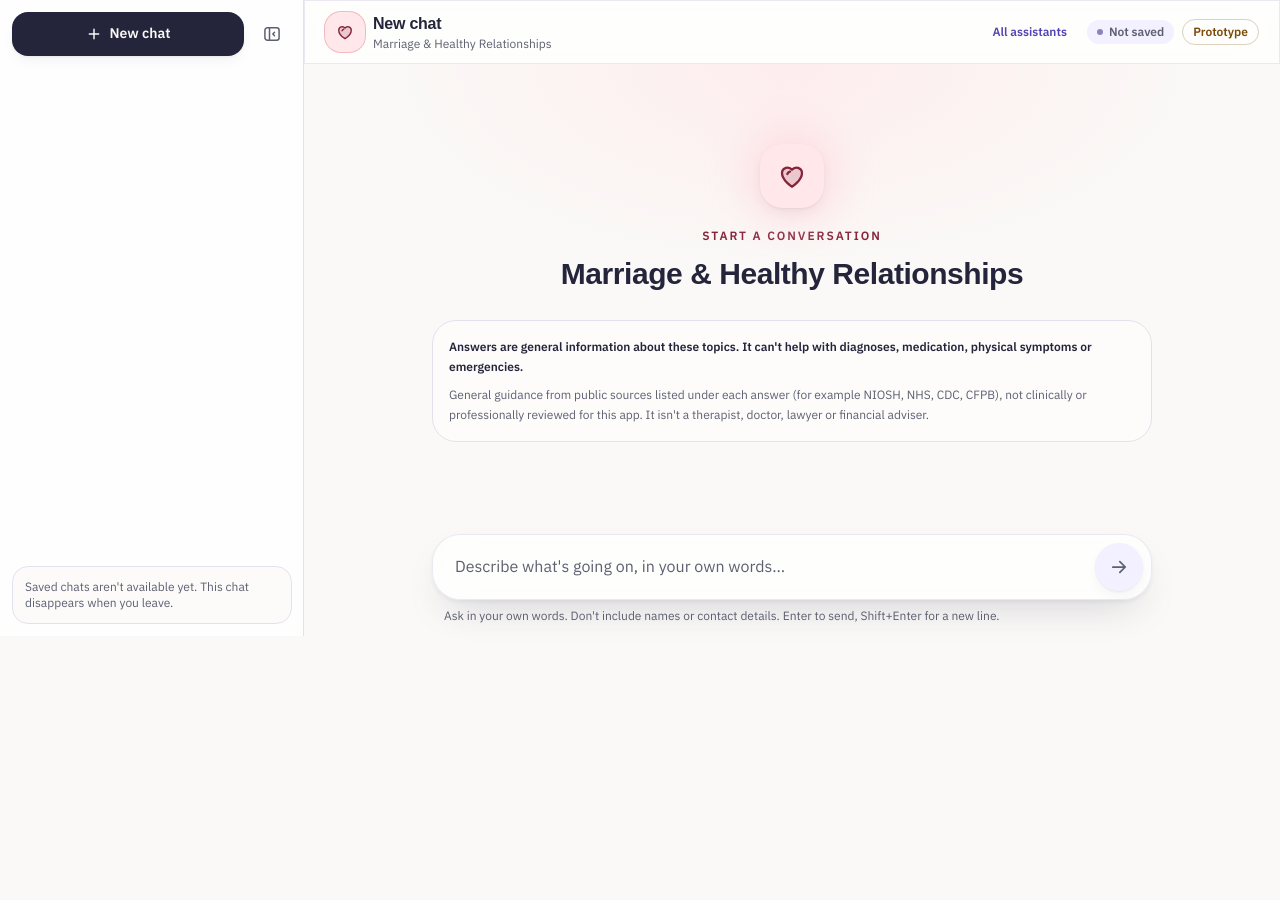
Scenario: workspace handoff › sends the assistant id and suggests a better-suited ready assistant, sharing nothing
Type "My manager keeps changing my deadlines" into the text box named "Ask a general question".
click(764, 567); type("My manager keeps changing my deadlines")  # box [441,543,1087,591]
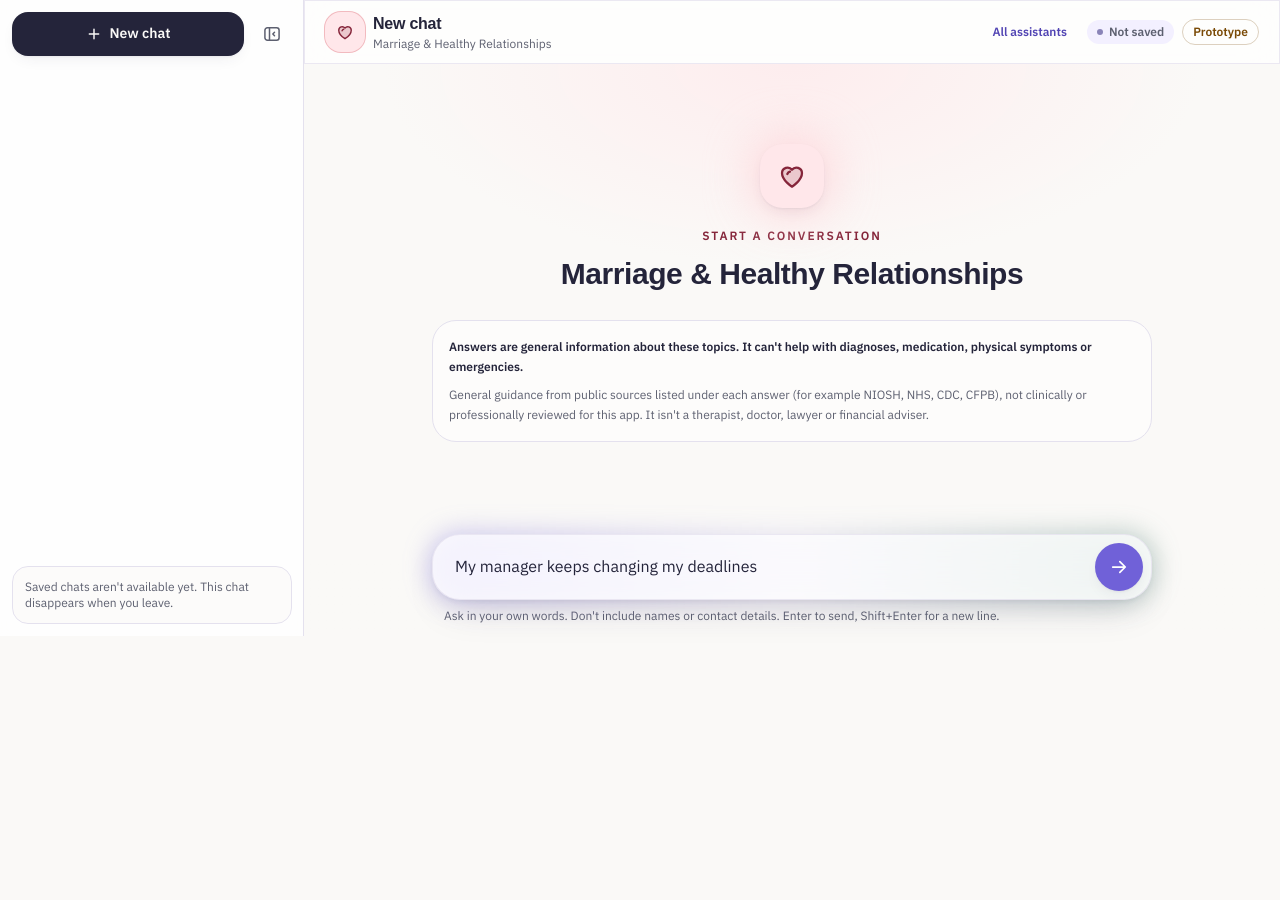
Click the button named "Send".
click(1119, 567)  # box [1095,543,1143,591]
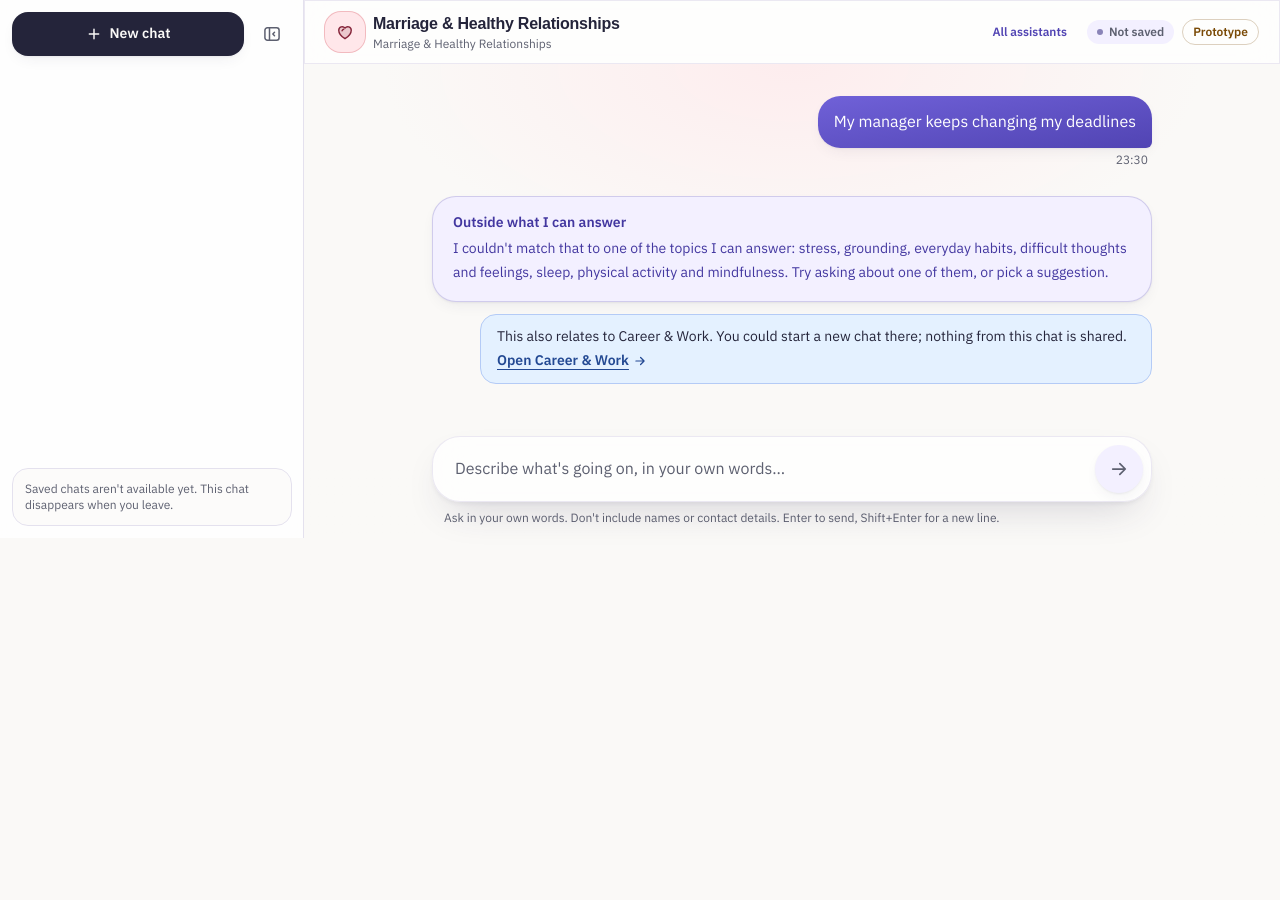
Check: the text "nothing from this chat is shared" is shown, box [497,326,1127,347]
